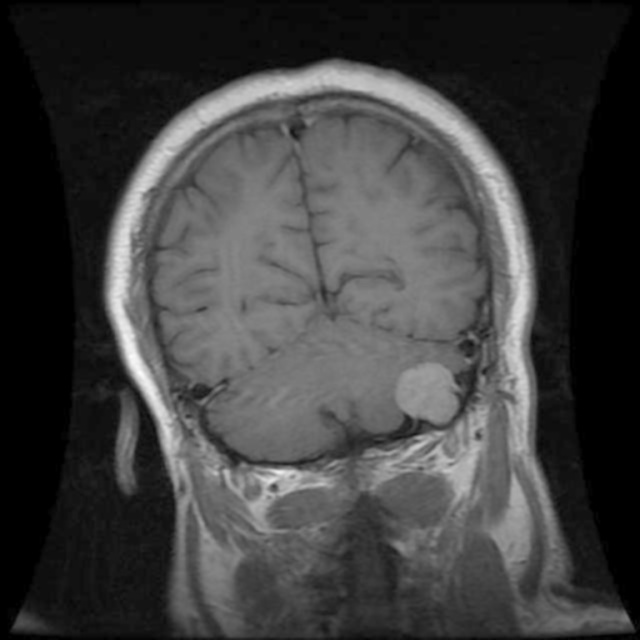meningioma tumor: (375, 347, 483, 432)
